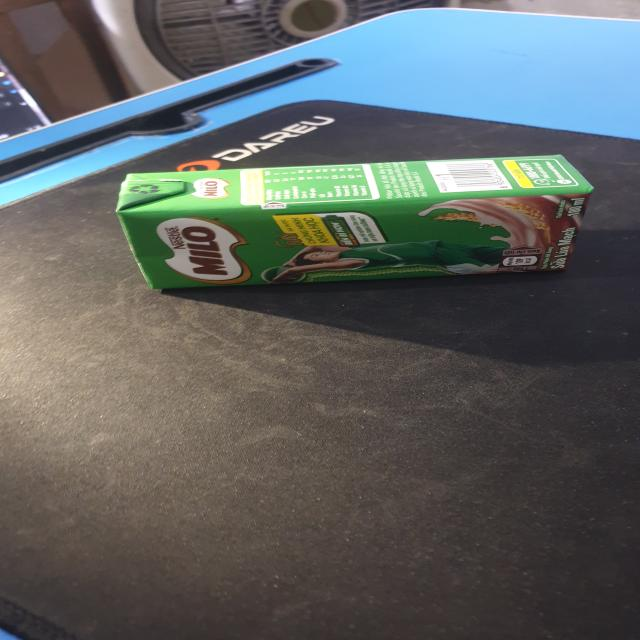Milo: (114, 155, 596, 298)
